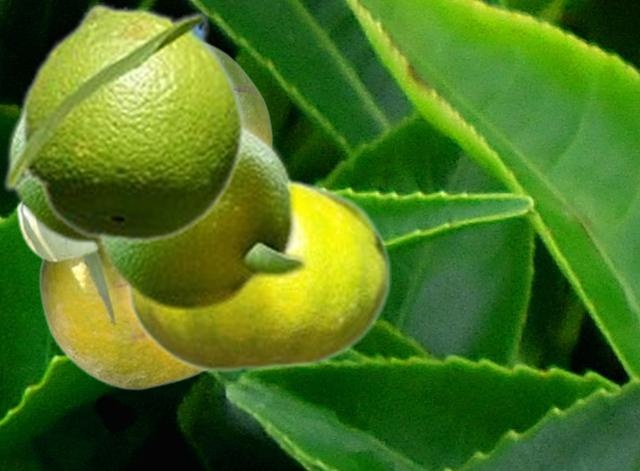dalandan: (1, 2, 246, 244), (125, 175, 390, 373), (93, 123, 309, 311), (15, 204, 204, 389), (5, 112, 95, 243), (212, 44, 272, 140)
